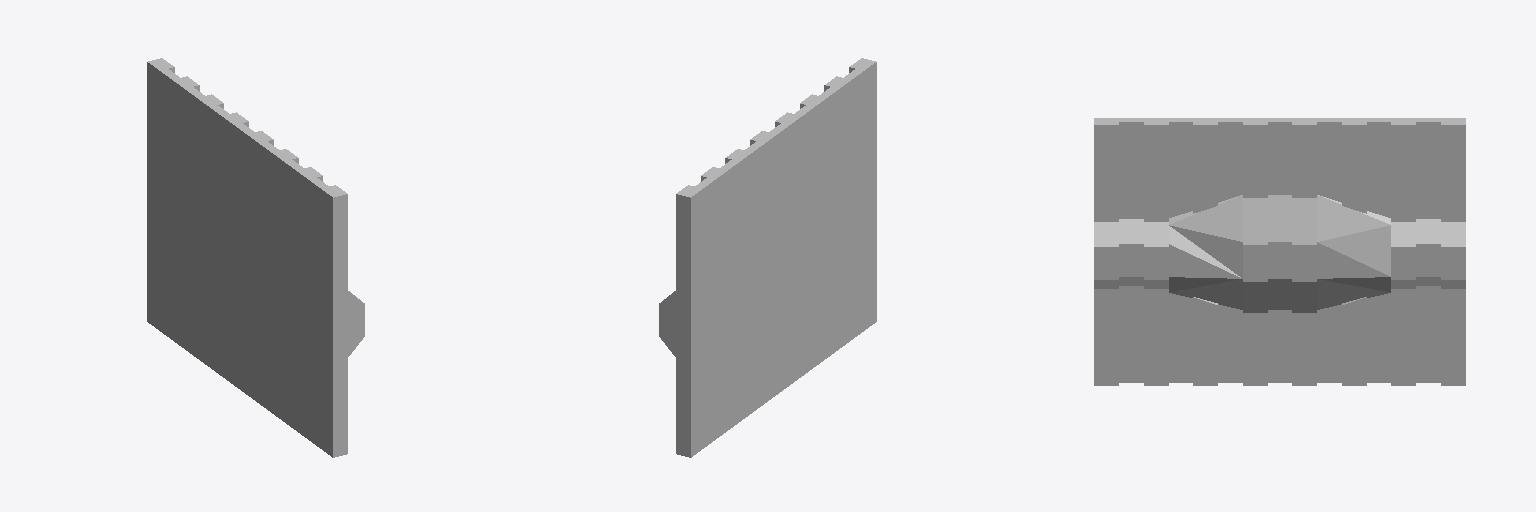
File: Insert[Name]HereWall.obj
3 renders of one model, left to right at view 1: azimuth 30°, elevation 25°; view 2: azimuth 150°, elevation 25°; view 3: azimuth 270°, elevation 25°, orthographic.
Visible parts, largest first — view 1: Cube.004_Cube.002; view 2: Cube.004_Cube.002; view 3: Cube.004_Cube.002.
Part boxes in pixels (x1,y1,x2,y2): Cube.004_Cube.002: (147,58,364,457); Cube.004_Cube.002: (659,58,876,457); Cube.004_Cube.002: (1094,118,1465,385).
Bounding box in the file's own units: 0.4933 × 3.9 × 5.04.